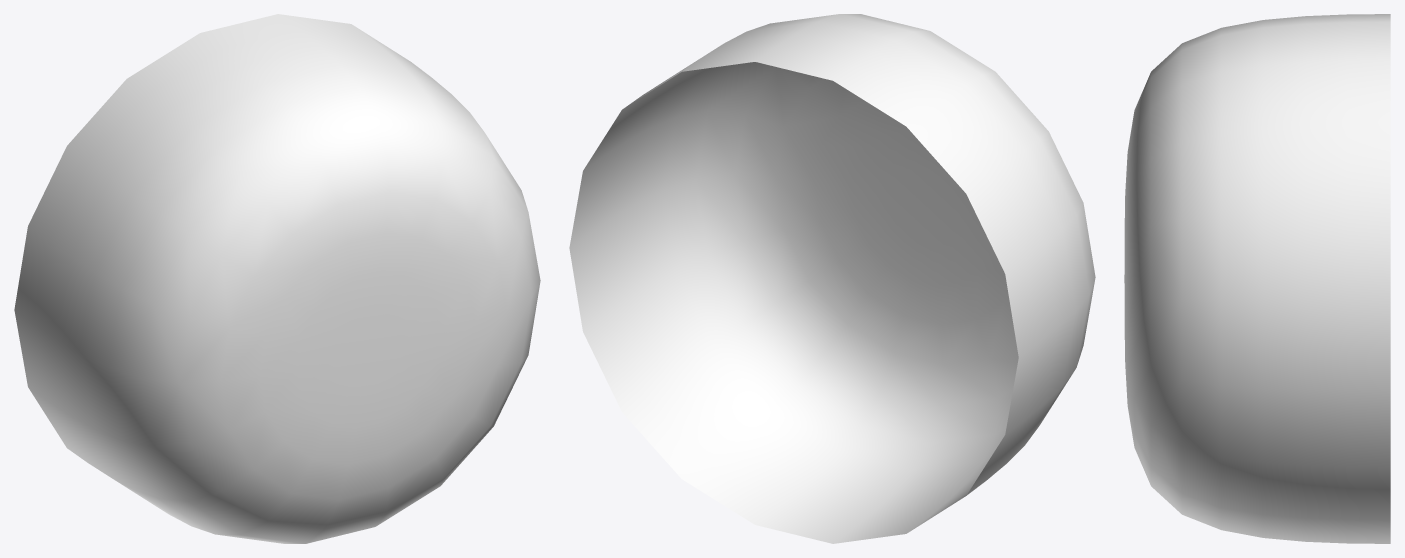
The model's file is SkyDome.obj.
3 renders of one model, left to right at view 1: azimuth 30°, elevation 25°; view 2: azimuth 150°, elevation 25°; view 3: azimuth 270°, elevation 25°, orthographic. The views are drawn at different scales.
Visible parts, largest first — view 1: SkyDome; view 2: SkyDome; view 3: SkyDome.
Boxes of the visible parts, x1,y1,x2,y2 form: SkyDome: (14, 14, 540, 543); SkyDome: (569, 14, 1095, 543); SkyDome: (1124, 14, 1390, 543).
Bounding box in the file's own units: 2 × 1.97 × 1.
